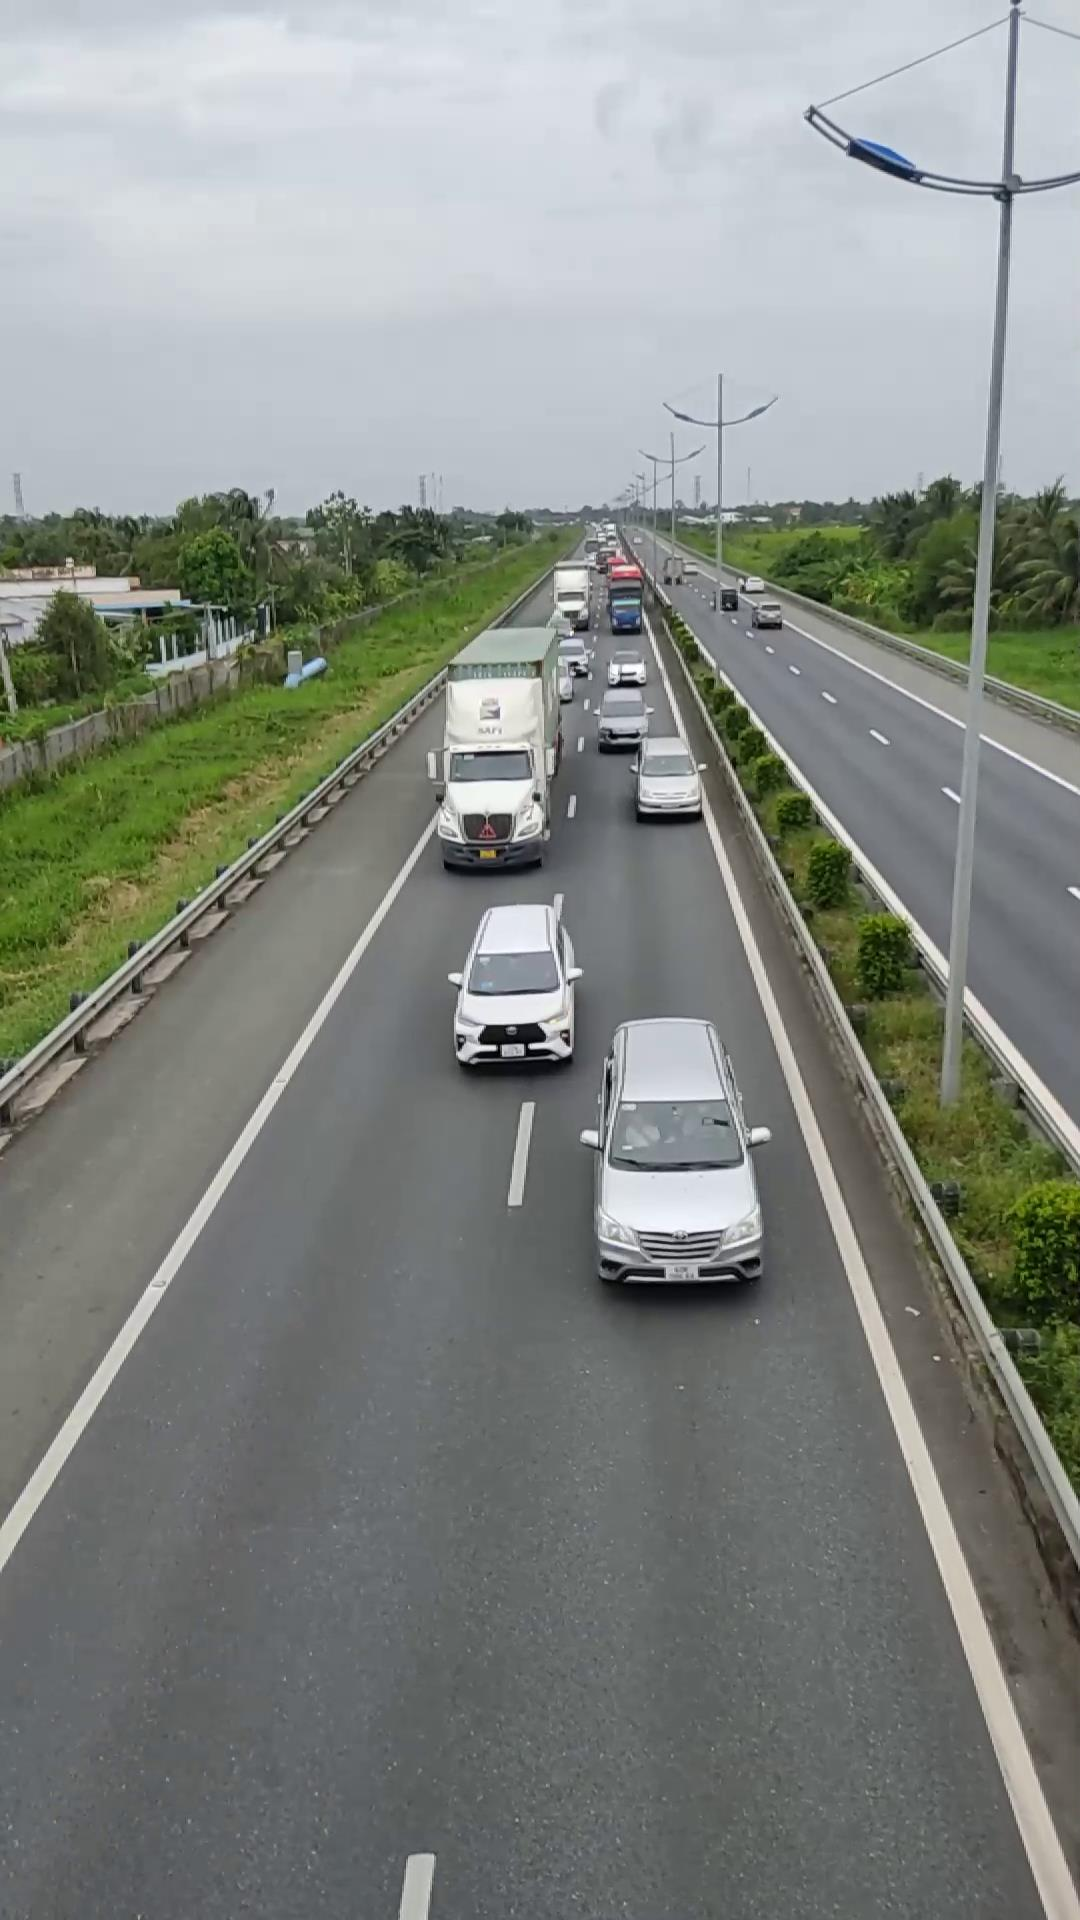car: (582, 1014, 769, 1288), (446, 899, 583, 1069), (632, 737, 705, 819)
container: (431, 624, 564, 872)
